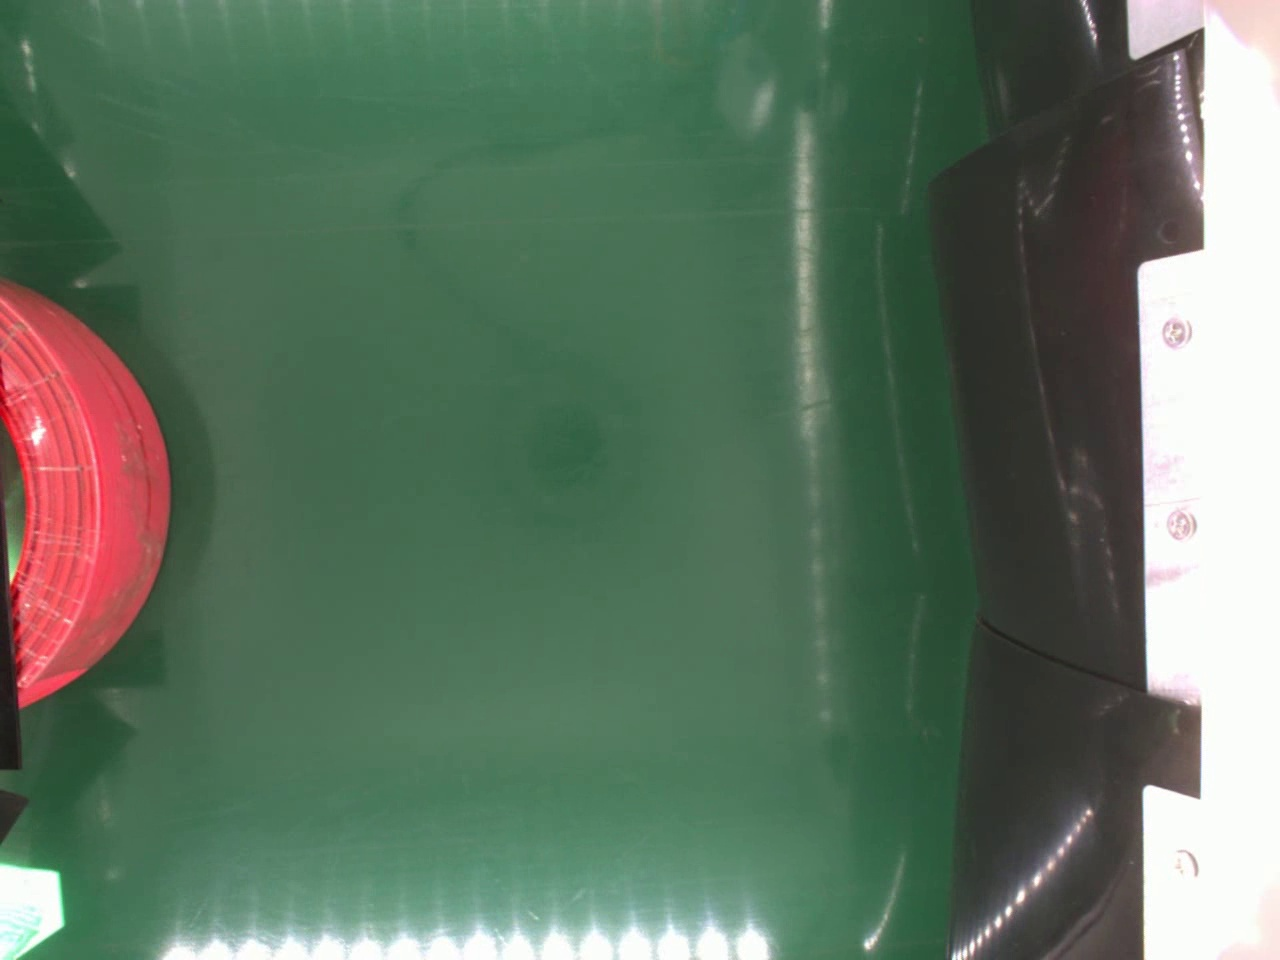red: (0, 282, 174, 710)
